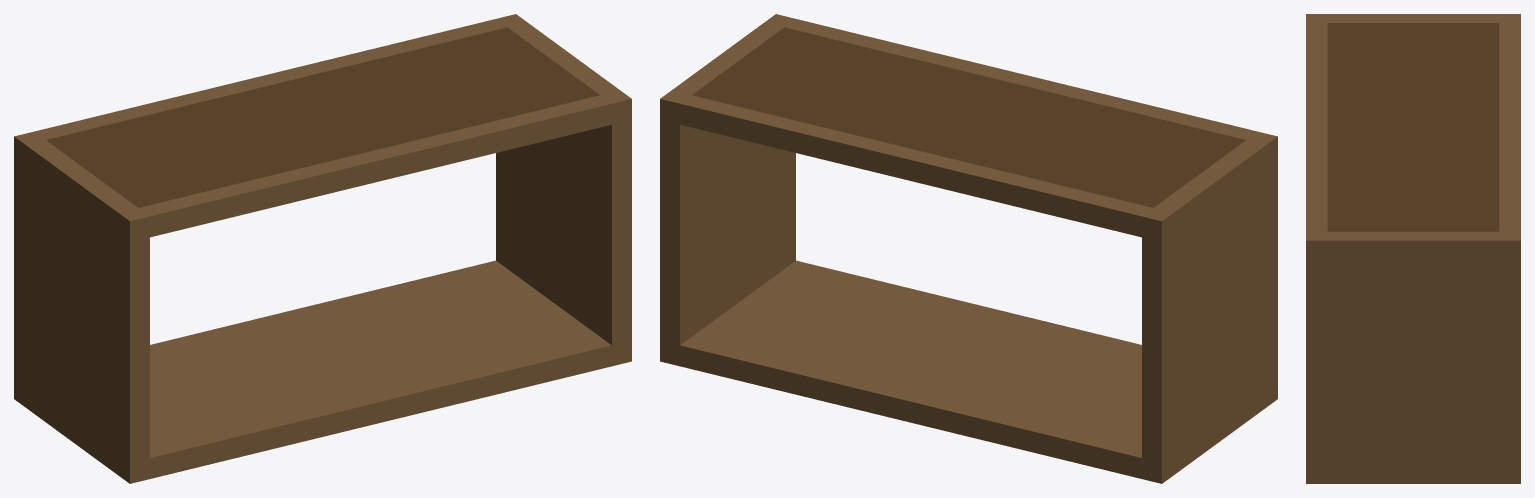
File: Bench1_C3.fbx
3 renders of one model, left to right at view 1: azimuth 30°, elevation 25°; view 2: azimuth 150°, elevation 25°; view 3: azimuth 270°, elevation 25°, orthographic. The views are drawn at different scales.
Visible parts, largest first — view 1: Bench1_C3; view 2: Bench1_C3; view 3: Bench1_C3.
Boxes of the visible parts, left/top/right/bottom form: Bench1_C3: left=14, top=14, right=631, bottom=483; Bench1_C3: left=660, top=14, right=1277, bottom=483; Bench1_C3: left=1306, top=14, right=1520, bottom=483.
Size of the model in its own units: 100 by 50 by 40.
